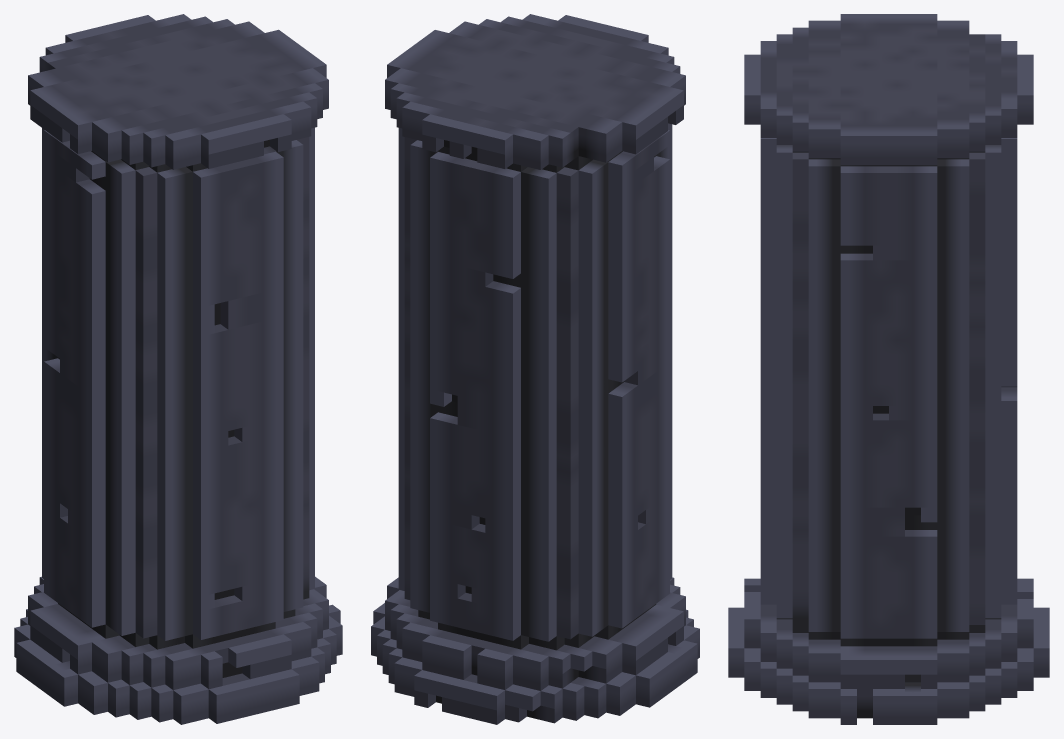
The model's file is Stone_pillar.dae.
3 views of the same model, side by side, from view 1: azimuth 30°, elevation 25°; view 2: azimuth 150°, elevation 25°; view 3: azimuth 270°, elevation 25° (orthographic).
Parts seen in each view (by area): view 1: Stone_pillar; view 2: Stone_pillar; view 3: Stone_pillar.
Boxes of the visible parts, x1,y1,x2,y2 form: Stone_pillar: (14,14,342,724); Stone_pillar: (371,14,699,724); Stone_pillar: (728,14,1049,724).
Bounding box in the file's own units: 20 × 40 × 20.
1 material, 1 textured.
